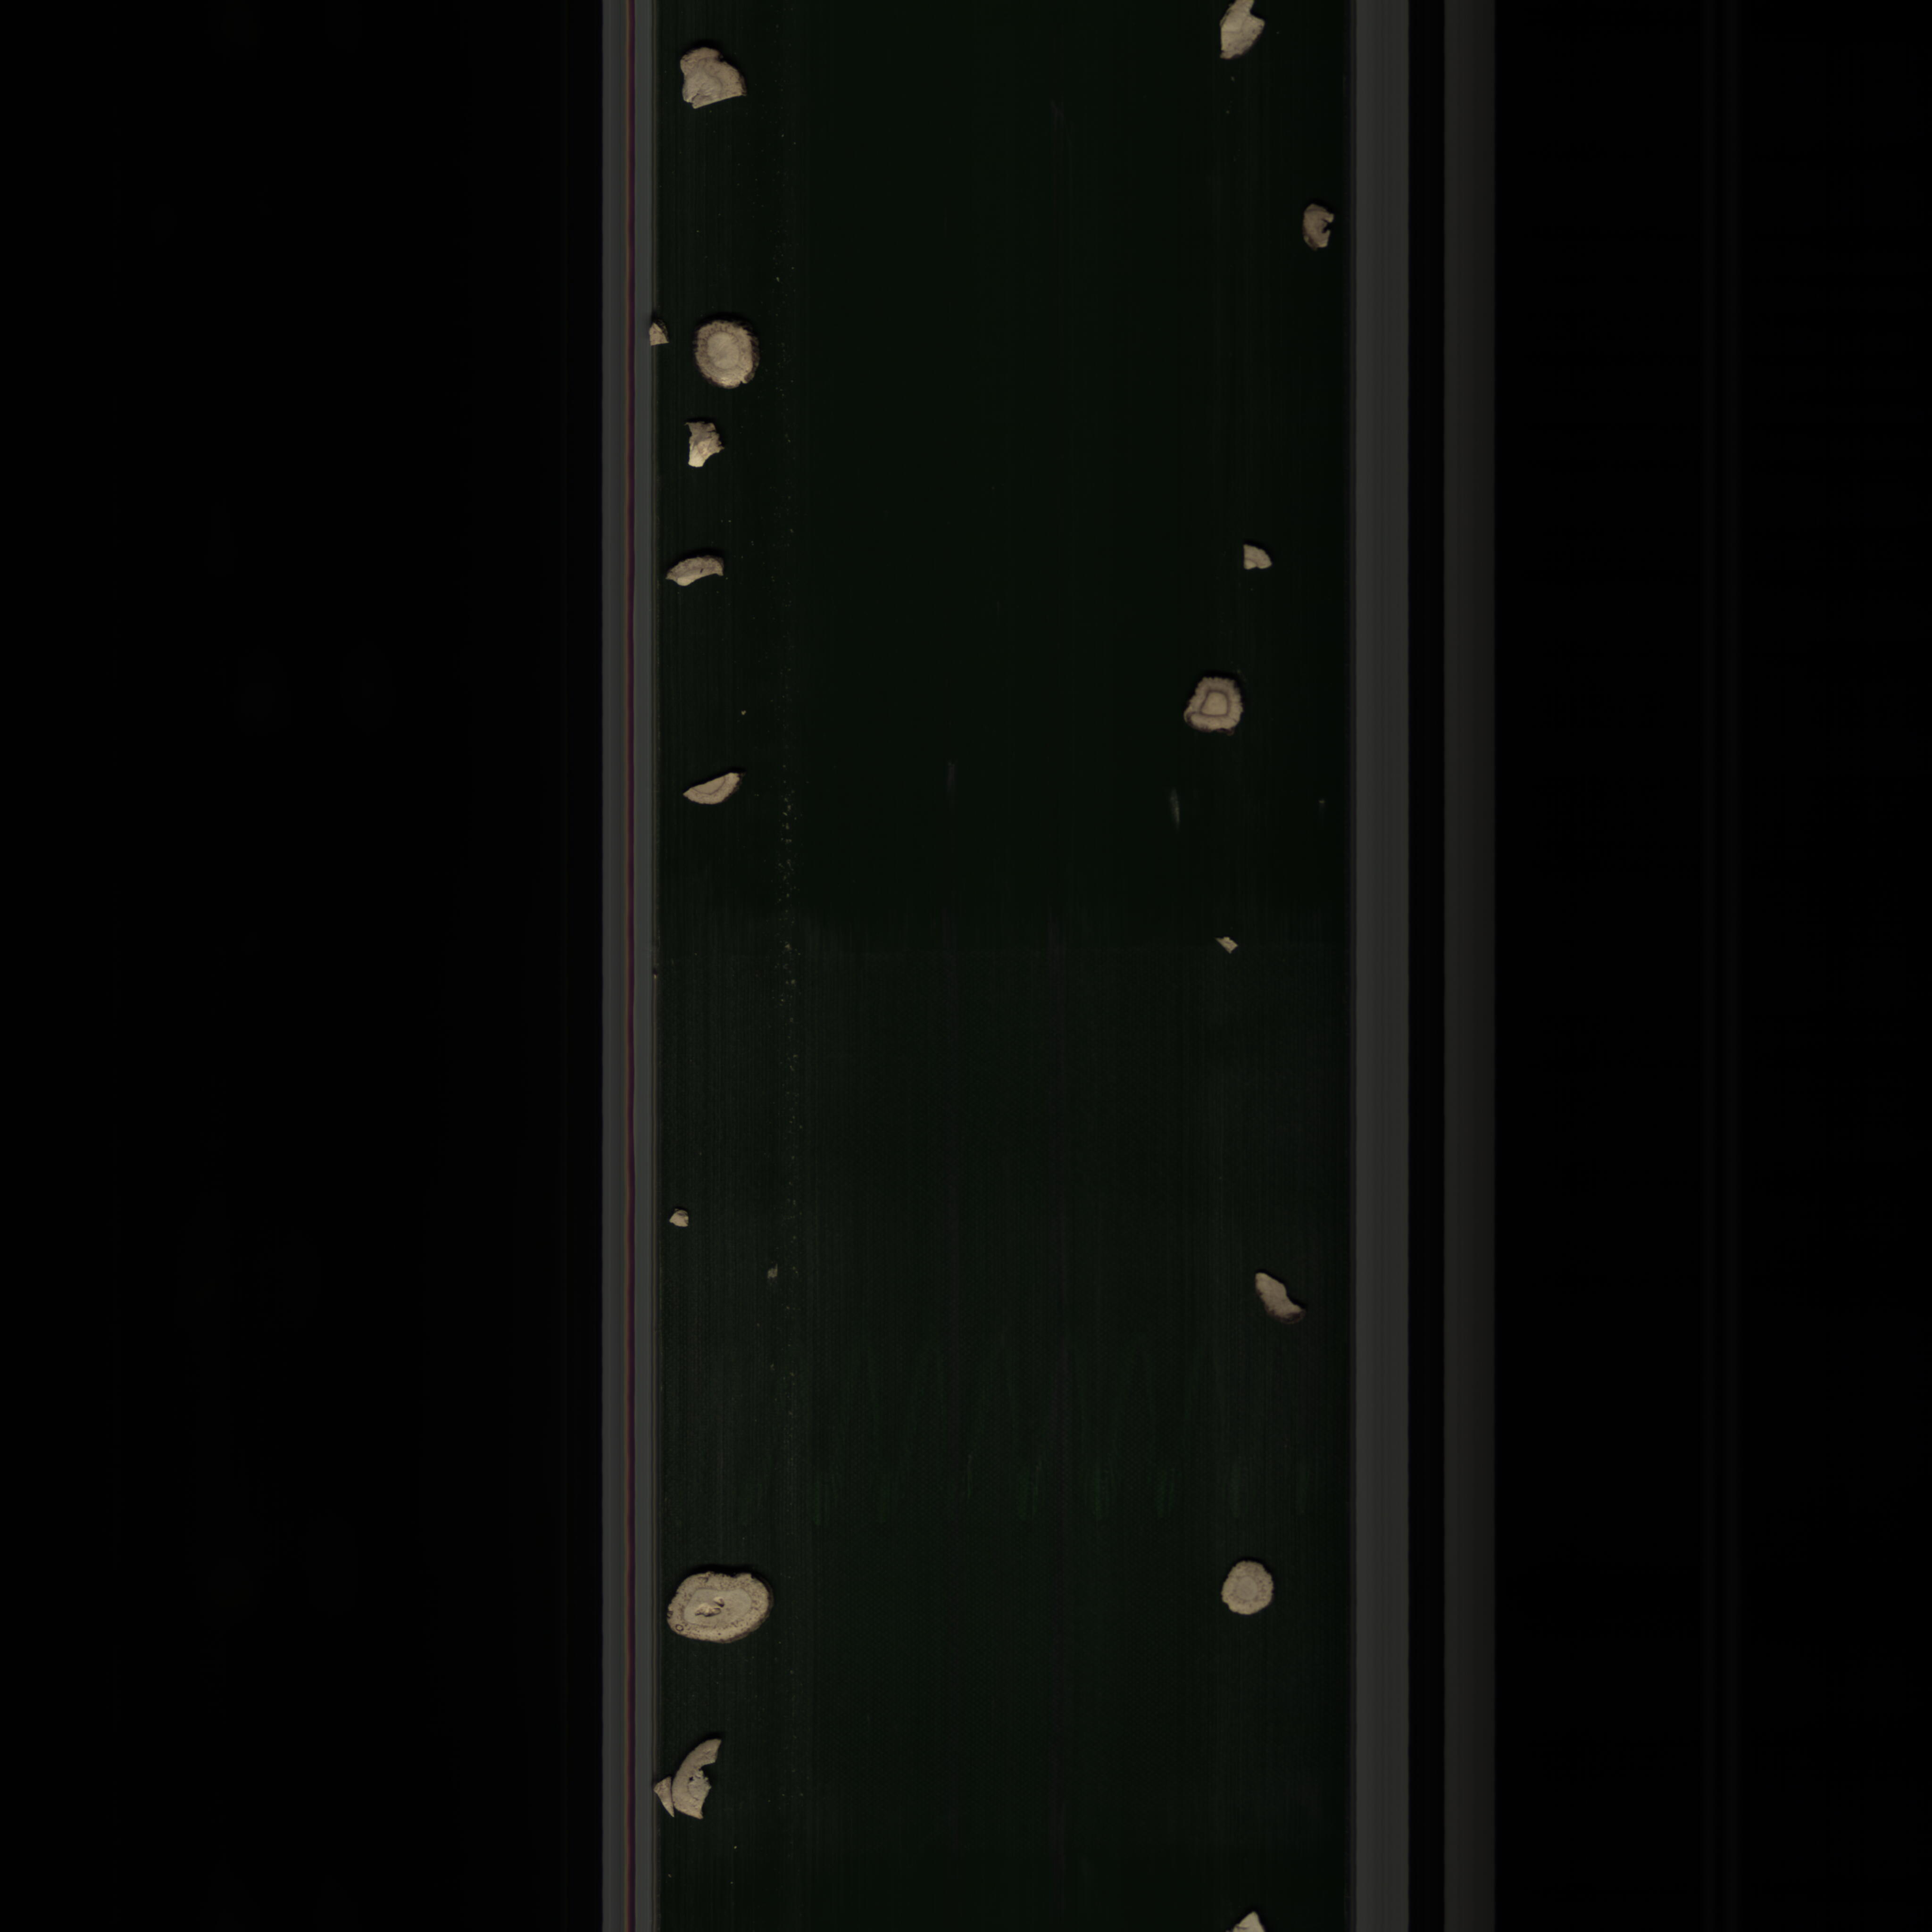debris: (649, 1732, 734, 1831), (671, 46, 755, 111), (1246, 1267, 1316, 1332), (1203, 2, 1270, 65), (678, 412, 729, 476), (662, 545, 727, 594), (681, 766, 747, 812), (1233, 534, 1284, 577), (644, 315, 678, 352)
hole: (663, 1566, 787, 1651)
moldy: (1177, 669, 1258, 740), (1292, 196, 1341, 257)
